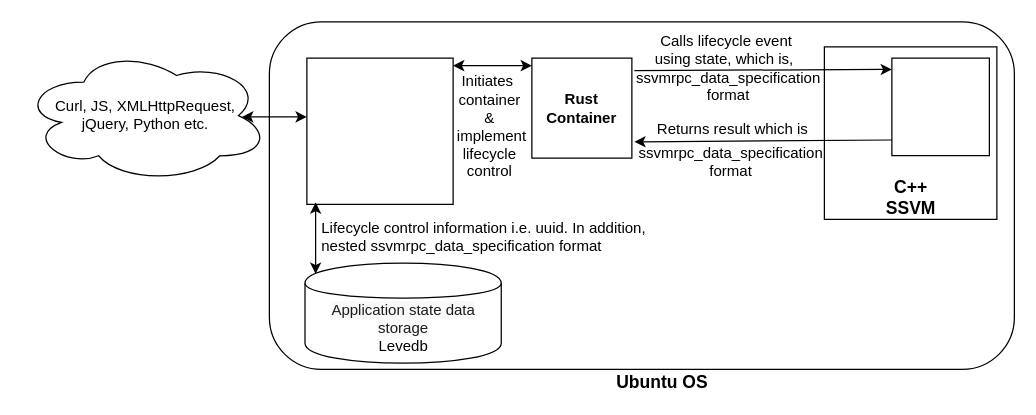
Image size: 1036x415. Some labels were removed from this diagram. Each missing label, with the centre of its shape:
"Lifecycle Event (stateless execution)" goes at (x=940, y=106).
"Rust RPC" goes at (x=379, y=130).
